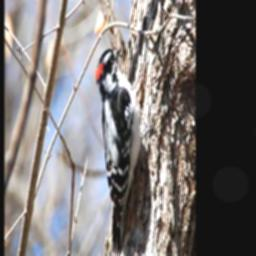Woodpecker: (94, 42, 143, 254)
